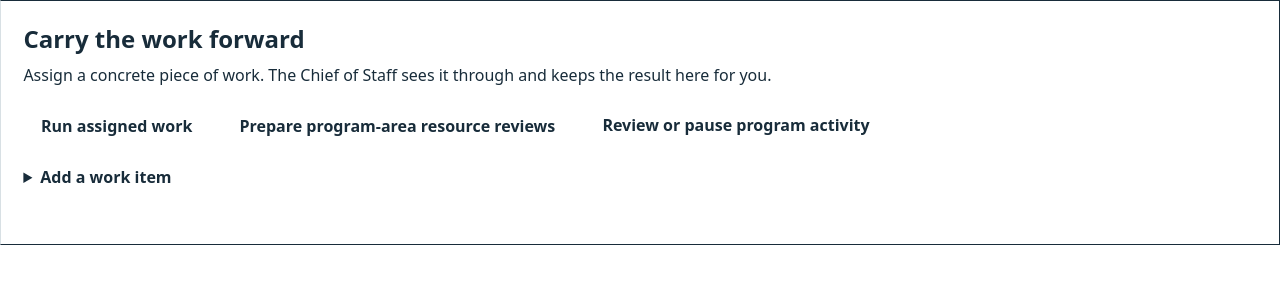
Test case: keeps program-area preparation explicit and reports unfinished work
Click the button "Prepare program-area resource reviews". click: click(397, 126)
box: [222,103,573,149]
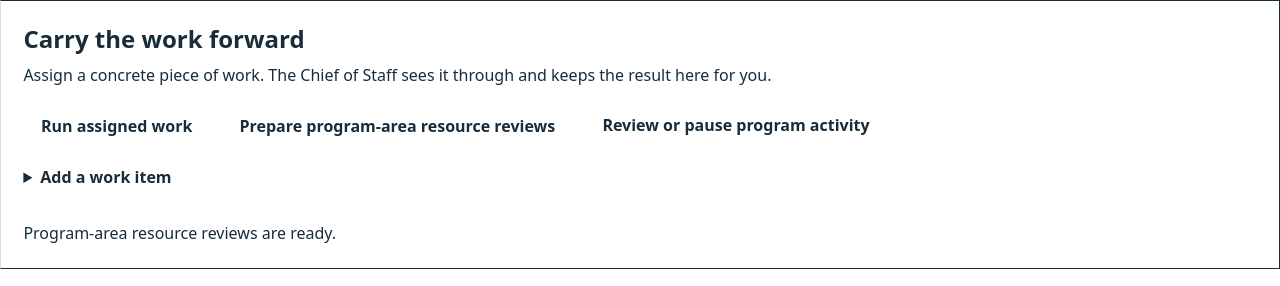
Check: the message shows "reviews are ready", box [23,222,336,244]
Click the button "Run assigned work". click: click(117, 126)
box: [23,103,210,149]
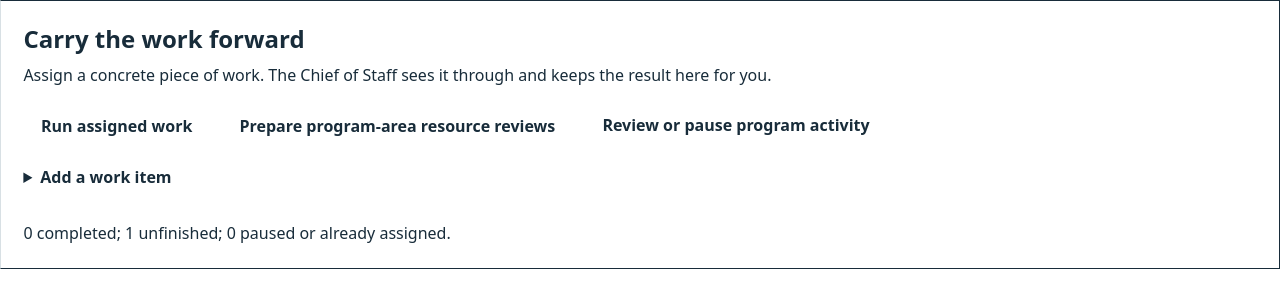
Check: the message shows "1 unfinished", box [23,222,451,244]
